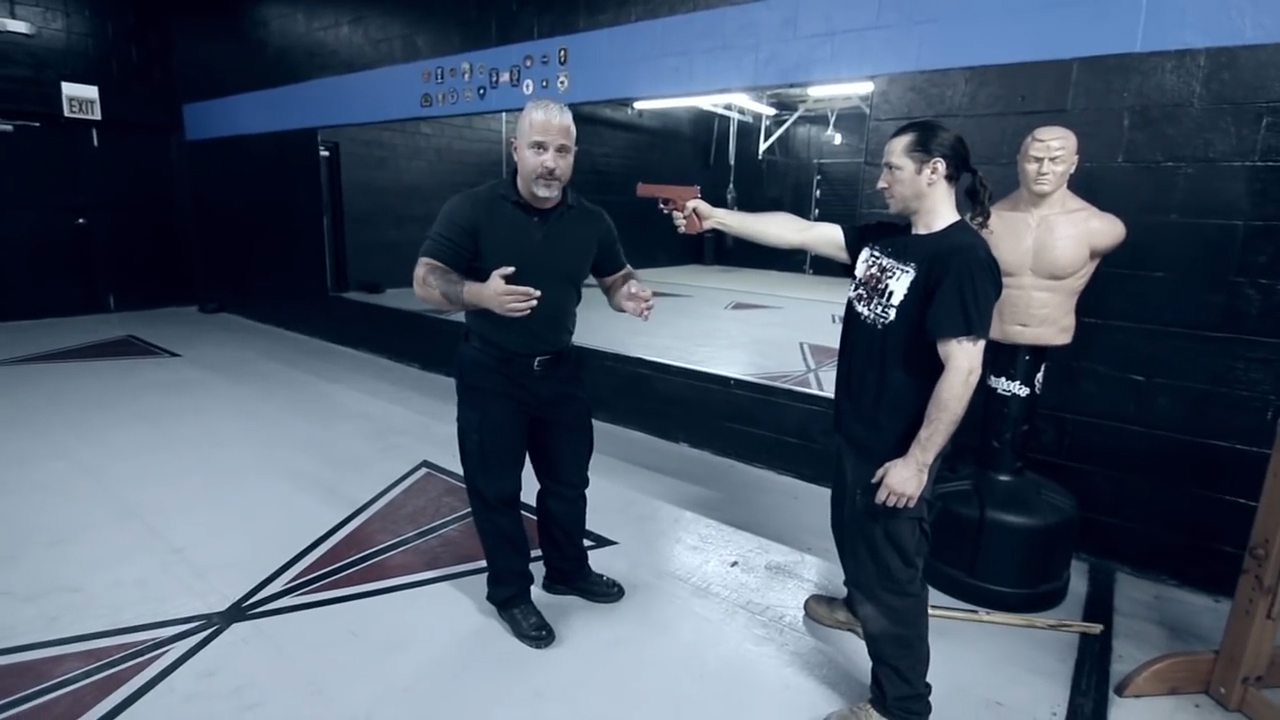pistol: (635, 180, 705, 235)
